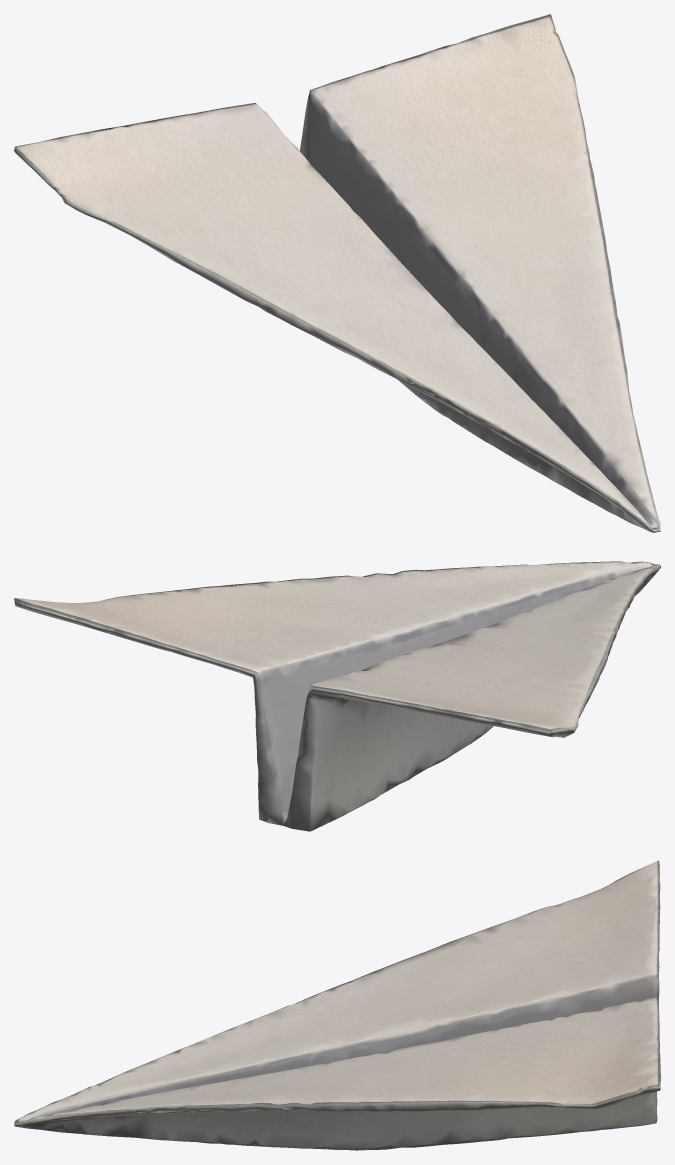
File: VAR_Computer_PaperPlane.fbx
The picture shows the model from 3 angles, top to bottom: view 1: azimuth 30°, elevation 25°; view 2: azimuth 150°, elevation 25°; view 3: azimuth 270°, elevation 25°; orthographic projection. The views are drawn at different scales.
Visible parts, largest first — view 1: texture_mapping; view 2: texture_mapping; view 3: texture_mapping.
Boxes of the visible parts, x1,y1,x2,y2 form: texture_mapping: (14,14,660,532); texture_mapping: (14,561,660,831); texture_mapping: (14,860,660,1150).
Bounding box in the file's own units: 0.8351 × 1.01 × 0.2935.
Materials: 1 (1 with a texture image).
